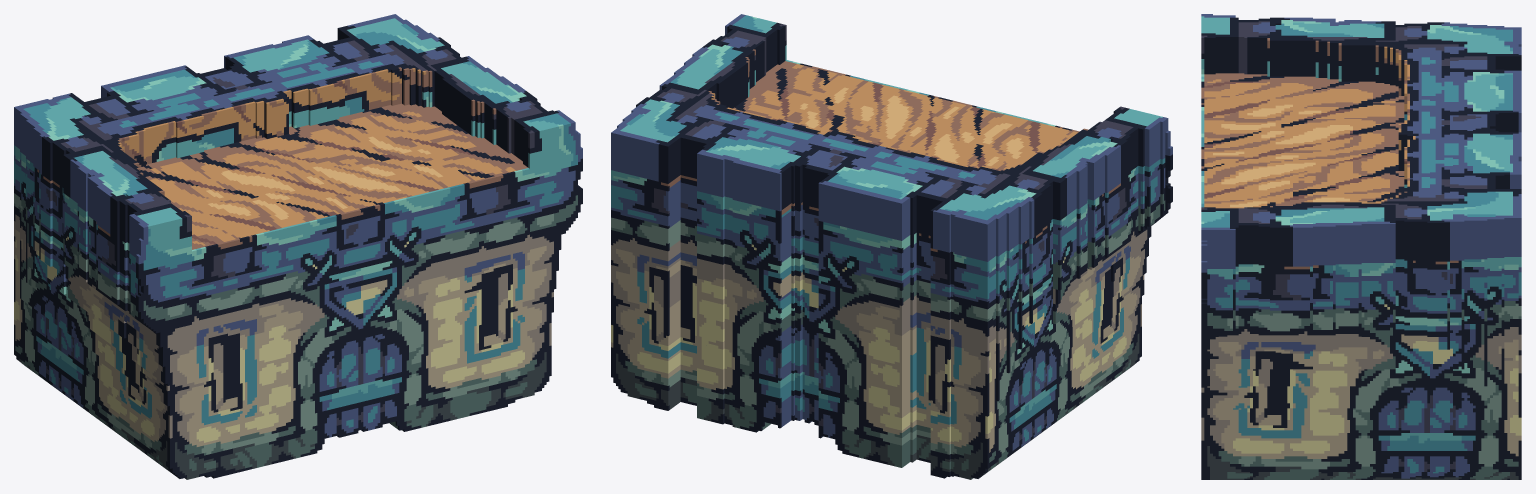
The model's file is Barracks.glb.
3 views of the same model, side by side, from view 1: azimuth 30°, elevation 25°; view 2: azimuth 150°, elevation 25°; view 3: azimuth 270°, elevation 25° (orthographic). The views are drawn at different scales.
Parts seen in each view (by area): view 1: q0; view 2: q0; view 3: q0.
Boxes of the visible parts, left/top/right/bottom form: q0: left=14, top=14, right=582, bottom=479; q0: left=611, top=14, right=1172, bottom=479; q0: left=1201, top=14, right=1521, bottom=479.
Size of the model in its own units: 184 by 106 by 112.
1 material, 1 textured.
